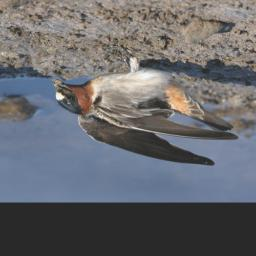Swallow: (52, 44, 239, 167)
